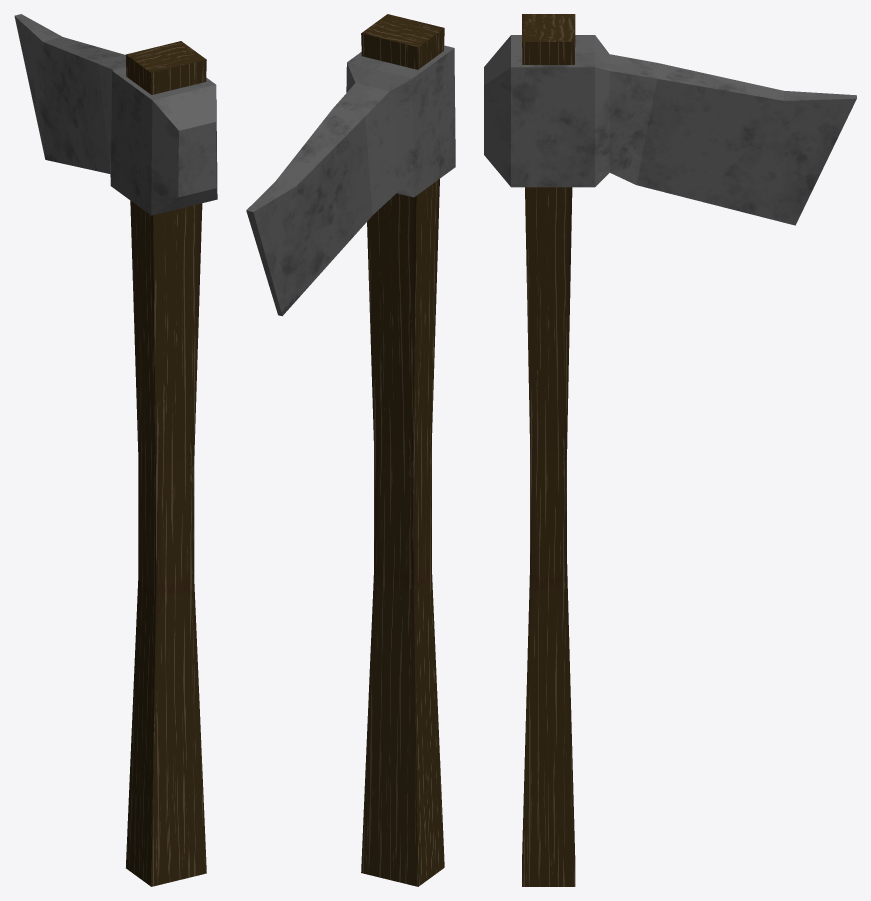
The model's file is Machado.fbx.
3 views of the same model, side by side, from view 1: azimuth 30°, elevation 25°; view 2: azimuth 150°, elevation 25°; view 3: azimuth 270°, elevation 25° (orthographic). The views are drawn at different scales.
Parts seen in each view (by area): view 1: Machado; view 2: Machado; view 3: Machado.
Boxes of the visible parts, <box> form: Machado: <box>14,14,217,886</box>; Machado: <box>246,14,455,886</box>; Machado: <box>484,14,856,886</box>.
Bounding box in the file's own units: 6.4 × 75 × 29.99.
2 materials, 2 textured.
